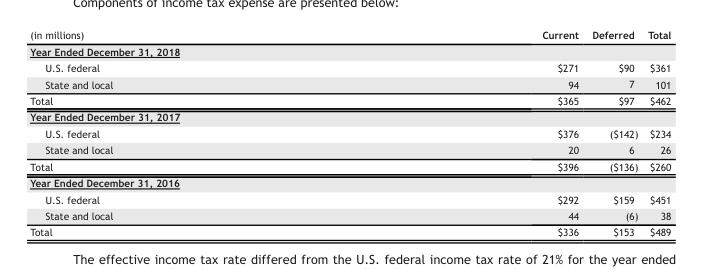table: (29, 28, 670, 237)
table column: (29, 28, 326, 237), (326, 28, 584, 237), (584, 28, 642, 237), (642, 28, 670, 237)
table column header: (29, 28, 670, 42)
table projected row header: (29, 42, 670, 59), (29, 108, 670, 124), (29, 174, 670, 190)
table row: (29, 42, 670, 59), (29, 75, 670, 92), (29, 124, 670, 141), (29, 157, 670, 174), (29, 190, 670, 207), (29, 59, 670, 75), (29, 92, 670, 108), (29, 108, 670, 124), (29, 141, 670, 157), (29, 174, 670, 190), (29, 207, 670, 223), (29, 28, 670, 42), (29, 223, 670, 237)
